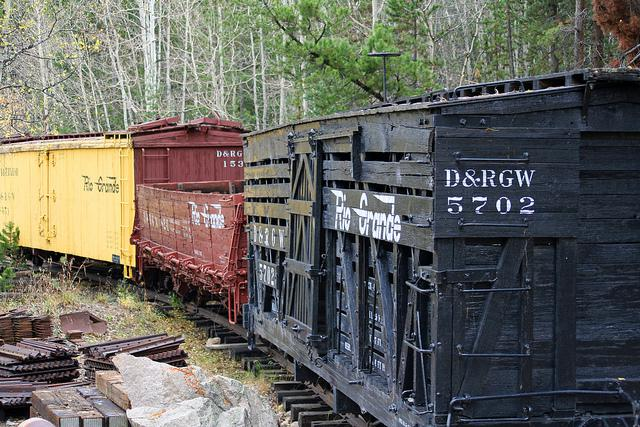Train: (0, 68, 640, 423)
